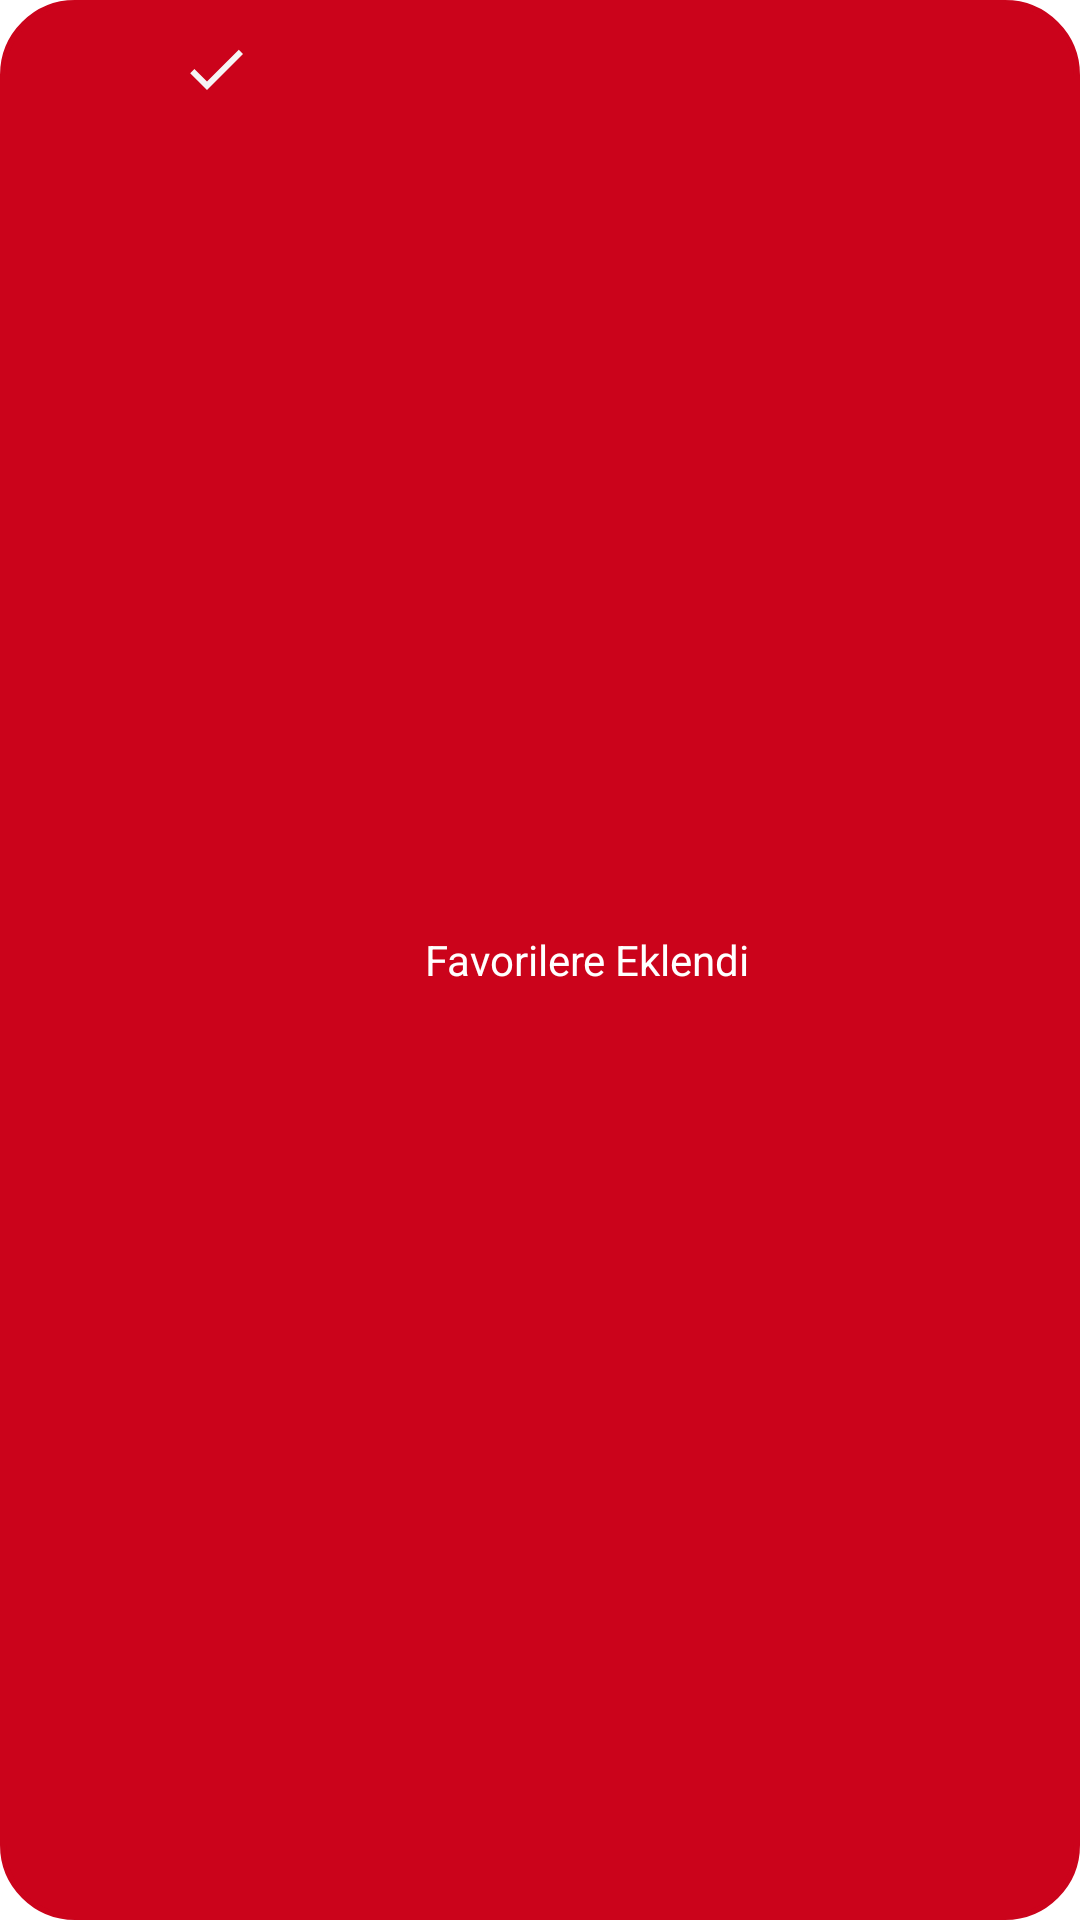

Named icons in this screenshot (1080x1920) and their centers, (x=x, y=y):
done: (x=216, y=70)
